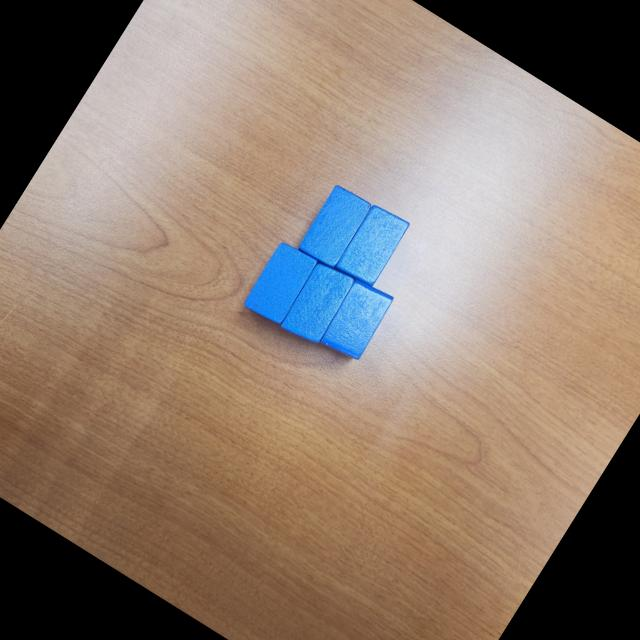blue: (293, 178, 376, 272), (276, 258, 358, 350), (239, 237, 320, 330), (316, 275, 397, 366), (332, 200, 412, 291)
